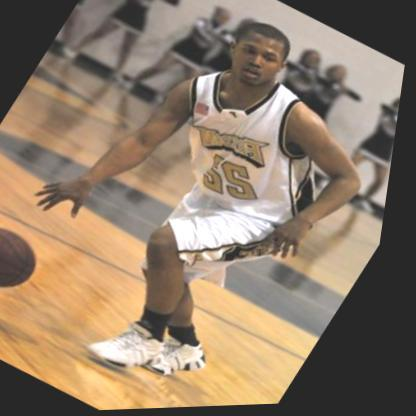basketball: (0, 212, 60, 304)
